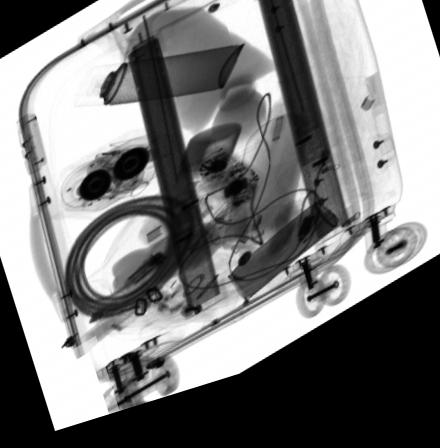Sprayer: (73, 58, 244, 112)
